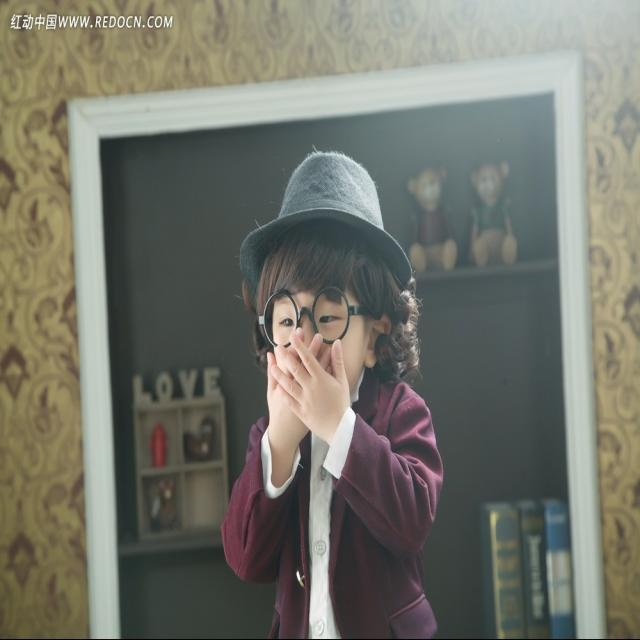mask: (272, 279, 361, 420)
